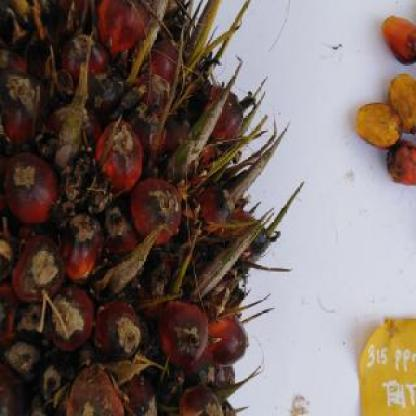Ripe: (0, 0, 280, 416)
